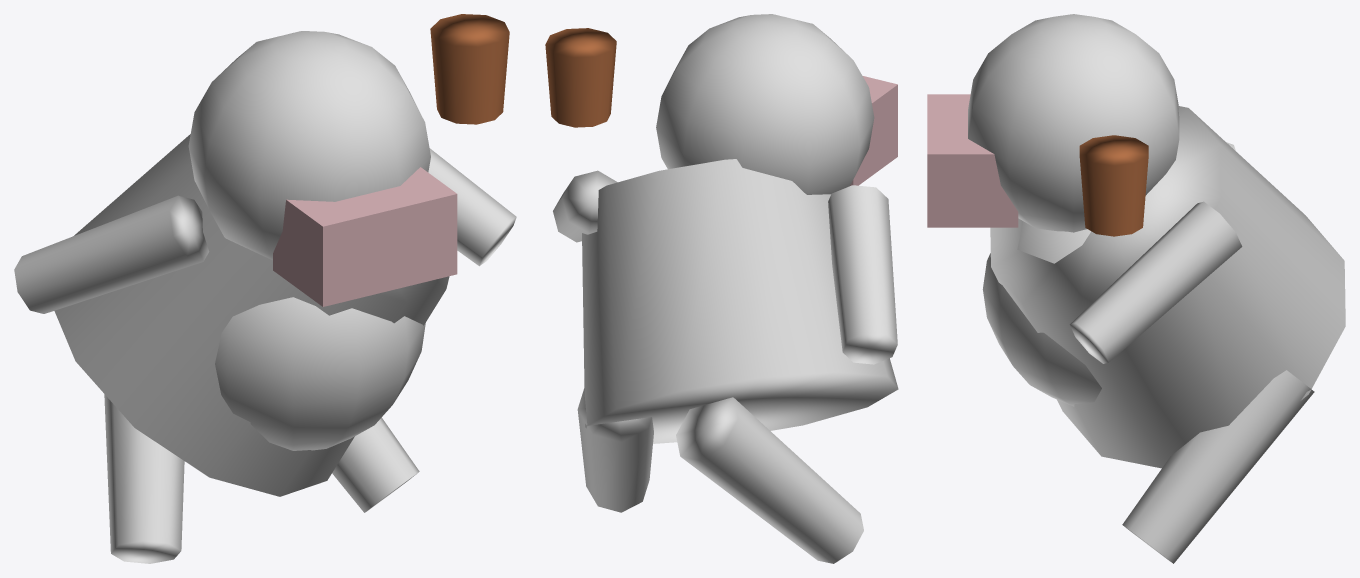
Rendered from cow-17-wreck.glb.
3 renders of one model, left to right at view 1: azimuth 30°, elevation 25°; view 2: azimuth 150°, elevation 25°; view 3: azimuth 270°, elevation 25°, orthographic. The views are drawn at different scales.
Parts seen in each view (by area): view 1: Root; view 2: Root; view 3: Root.
Part boxes in pixels (x1=…): Root: x1=14, y1=14, x2=516, y2=563; Root: x1=545, y1=14, x2=898, y2=563; Root: x1=927, y1=14, x2=1345, y2=563.
Bounding box in the file's own units: 2.29 × 2.66 × 2.07.
